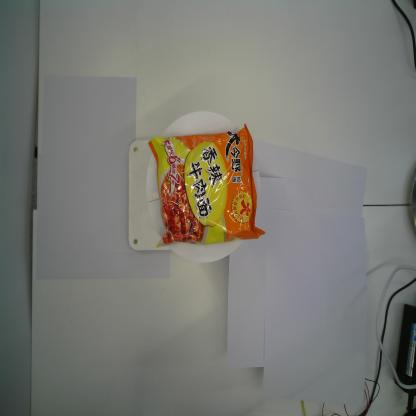Instant Noodles: (148, 122, 266, 248)
